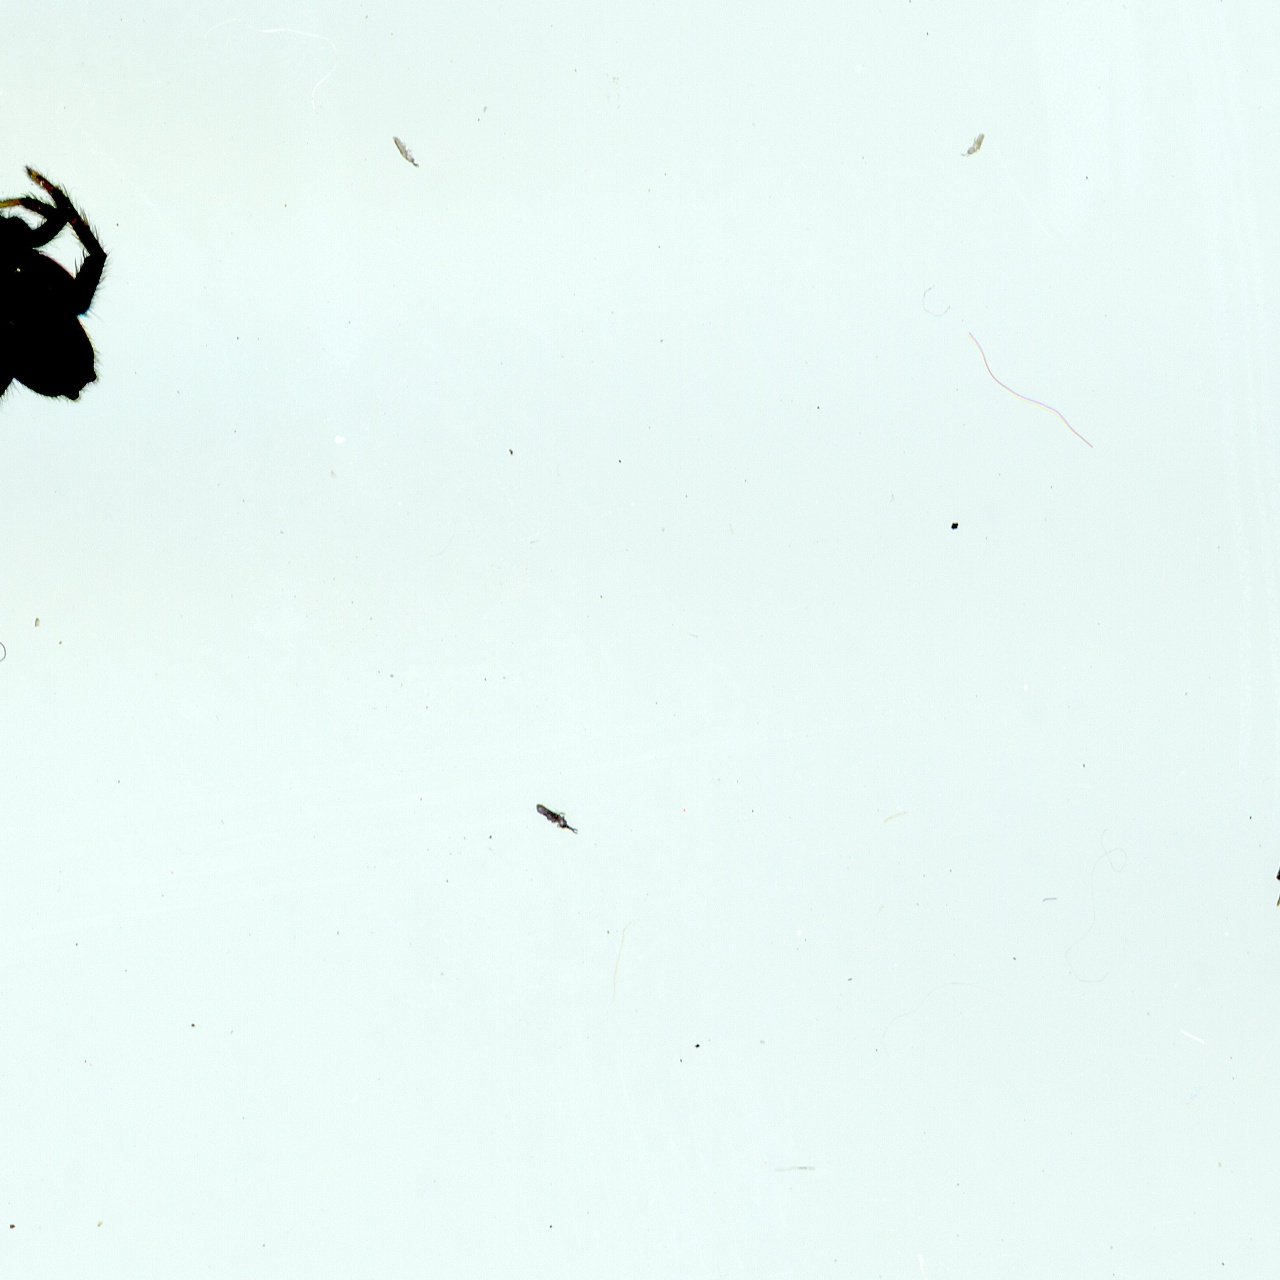arthropod: (0, 14, 200, 506), (520, 790, 591, 846), (383, 124, 429, 178), (954, 124, 993, 164), (924, 0, 958, 9)
